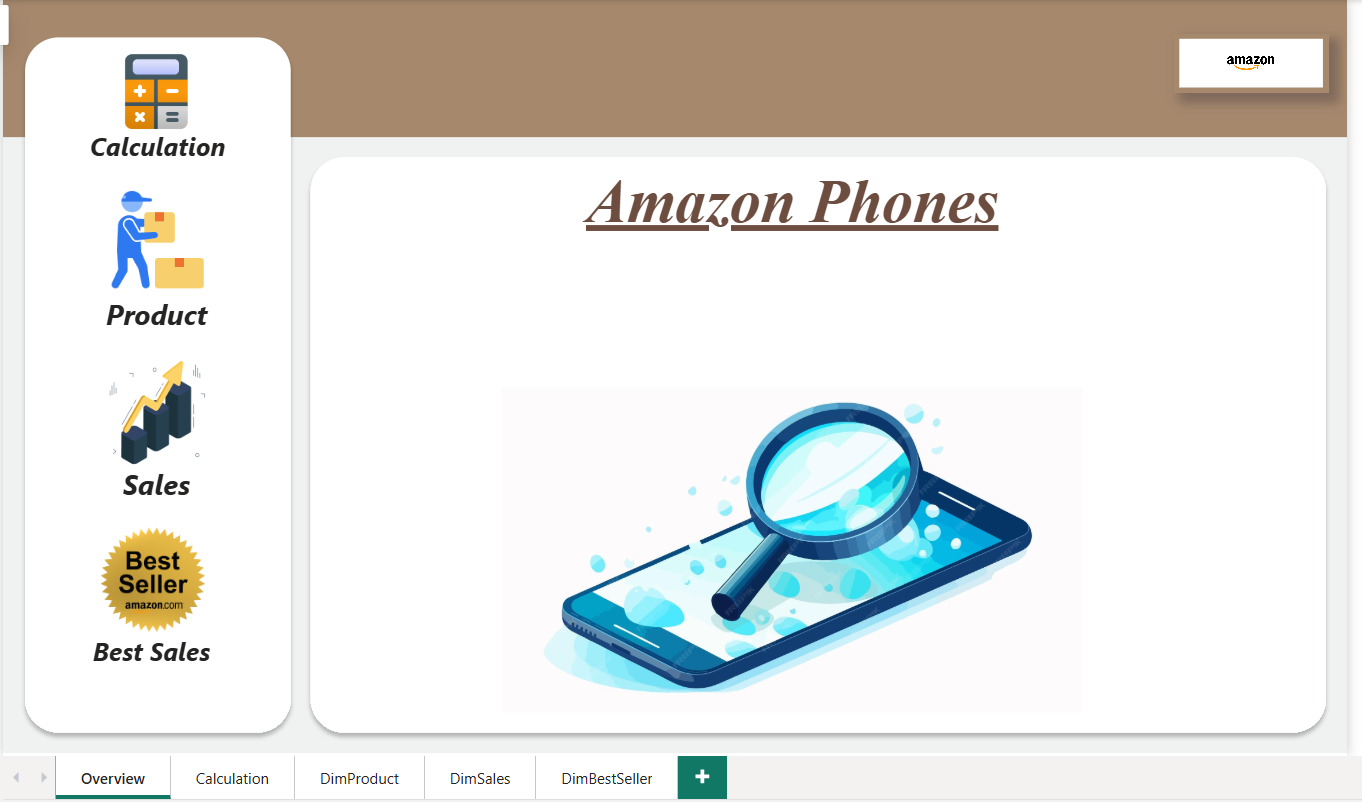

This screenshot's page, from the dashboard's own definition file:
{"tool":"powerbi","page":{"name":"Overview","canvas":[1280,720],"ordinal":0},"visuals":[{"type":"textbox","box":[536.5,153.7,429.5,108.4],"z":0},{"type":"image","box":[470.7,359.5,562.6,329.3],"z":1000},{"type":"image","box":[101.5,43.9,89.2,86.4],"z":2000},{"type":"textbox","box":[41.2,118,211.3,53.5],"z":3000},{"type":"image","box":[96.1,171.5,102.9,113.9],"z":4000},{"type":"textbox","box":[71.4,275.8,149.6,59],"z":5000},{"type":"image","box":[86.4,334.8,119.4,116.6],"z":6000},{"type":"textbox","box":[71.4,437.7,149.6,54.9],"z":7000},{"type":"image","box":[86.4,492.6,112.5,118],"z":8000},{"type":"textbox","box":[67.2,598.3,149.6,49.4],"z":9000},{"type":"image","box":[1115.6,31.6,146.8,56.3],"z":10000}]}

Visuals, with their boxes on the page's 1280x720 design canvas (x1, y1, x2, y2). These are canvas units, not pixel positions in the 1362x802 screenshot, which may show the page scaled, cropped or inside an application window:
textbox: 536:154:966:262
image: 471:360:1033:689
image: 102:44:191:130
textbox: 41:118:252:172
image: 96:172:199:285
textbox: 71:276:221:335
image: 86:335:206:451
textbox: 71:438:221:493
image: 86:493:199:611
textbox: 67:598:217:648
image: 1116:32:1262:88
